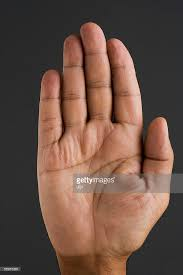palm: (37, 131, 157, 243)
